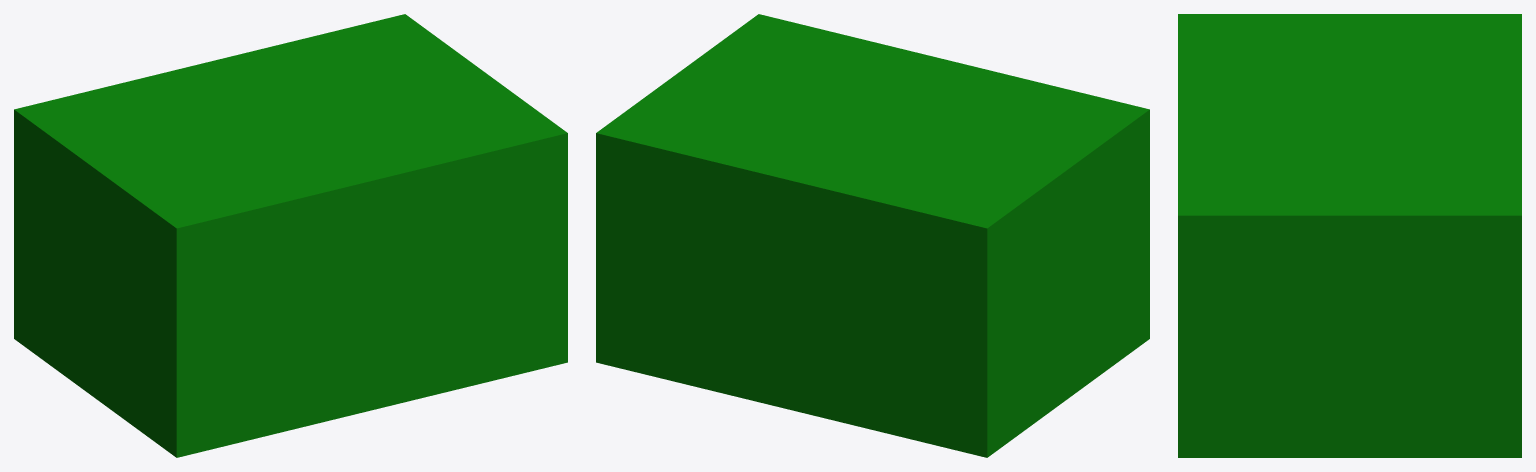
The model's file is clothframe.DAE.
3 views of the same model, side by side, from view 1: azimuth 30°, elevation 25°; view 2: azimuth 150°, elevation 25°; view 3: azimuth 270°, elevation 25° (orthographic). The views are drawn at different scales.
Parts seen in each view (by area): view 1: bounds; view 2: bounds; view 3: bounds.
Boxes of the visible parts, x1=… form: bounds: x1=14, y1=14, x2=567, y2=457; bounds: x1=596, y1=14, x2=1149, y2=457; bounds: x1=1178, y1=14, x2=1521, y2=457.
Size of the model in its own units: 10.51 by 7.57 by 5.89.
